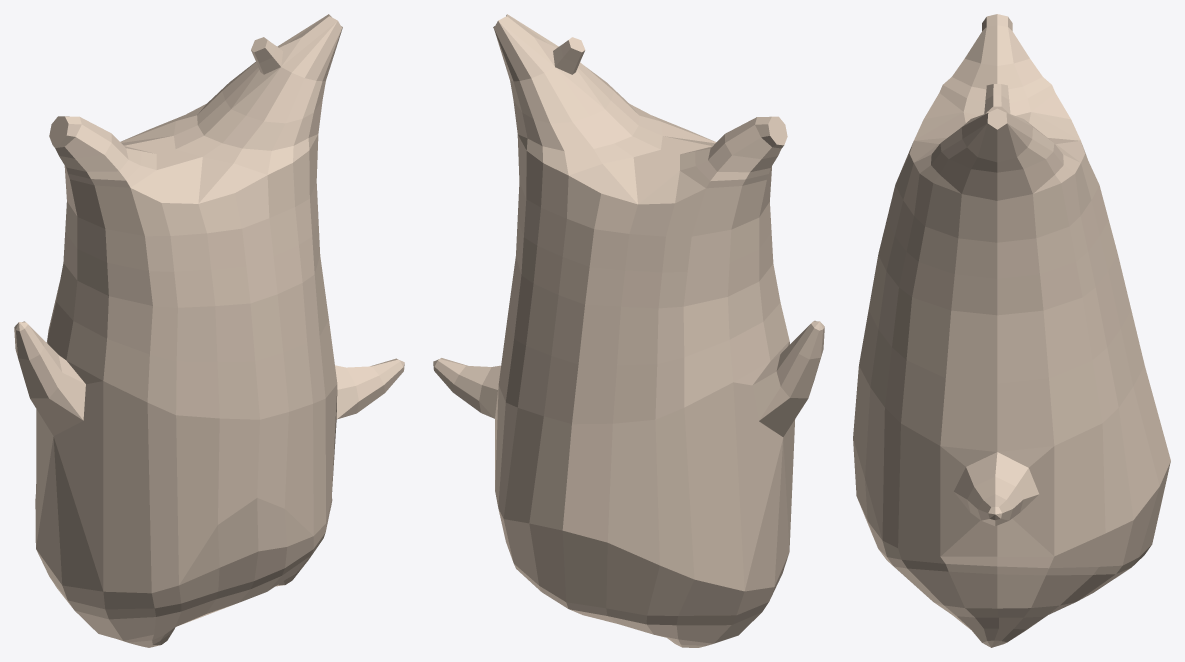
Rendered from frame_0129.obj.
3 views of the same model, side by side, from view 1: azimuth 30°, elevation 25°; view 2: azimuth 150°, elevation 25°; view 3: azimuth 270°, elevation 25° (orthographic).
Parts seen in each view (by area): view 1: korok; view 2: korok; view 3: korok.
Part boxes in pixels (x1,y1,x2,y2): korok: (14,14,404,647); korok: (433,14,824,647); korok: (853,14,1170,647).
Bounding box in the file's own units: 1.53 × 2.19 × 1.07.
